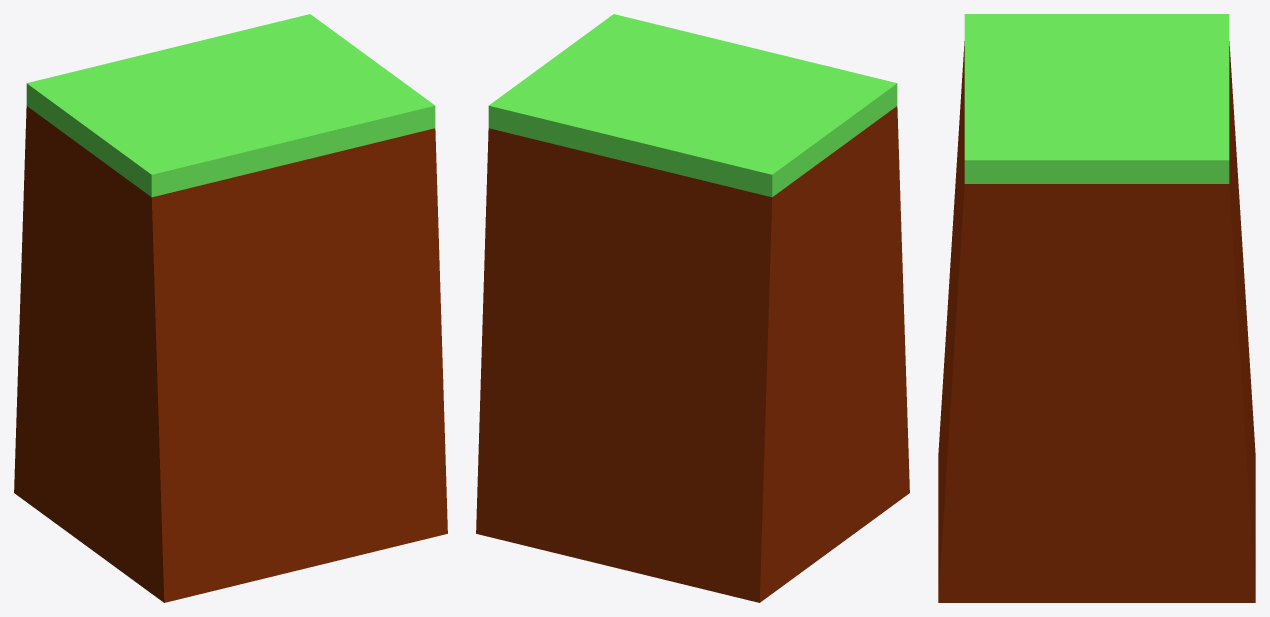
The model's file is escenarioTestDerecha2L.fbx.
3 views of the same model, side by side, from view 1: azimuth 30°, elevation 25°; view 2: azimuth 150°, elevation 25°; view 3: azimuth 270°, elevation 25° (orthographic). The views are drawn at different scales.
Visible parts, largest first — view 1: Cube.016; view 2: Cube.016; view 3: Cube.016.
Boxes of the visible parts, <box> form: Cube.016: <box>14,14,447,602</box>; Cube.016: <box>476,14,909,602</box>; Cube.016: <box>938,14,1255,602</box>.
Bounding box in the file's own units: 1590 × 2244 × 1458.
